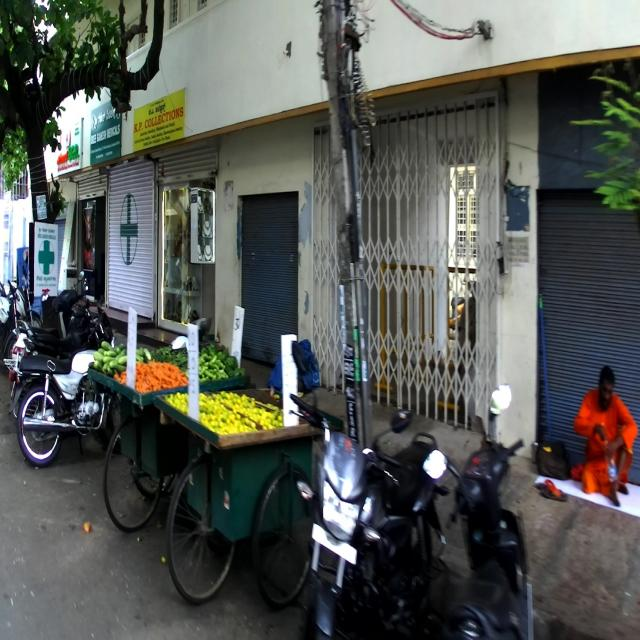motorcycle: (288, 392, 450, 639), (3, 342, 127, 463)
